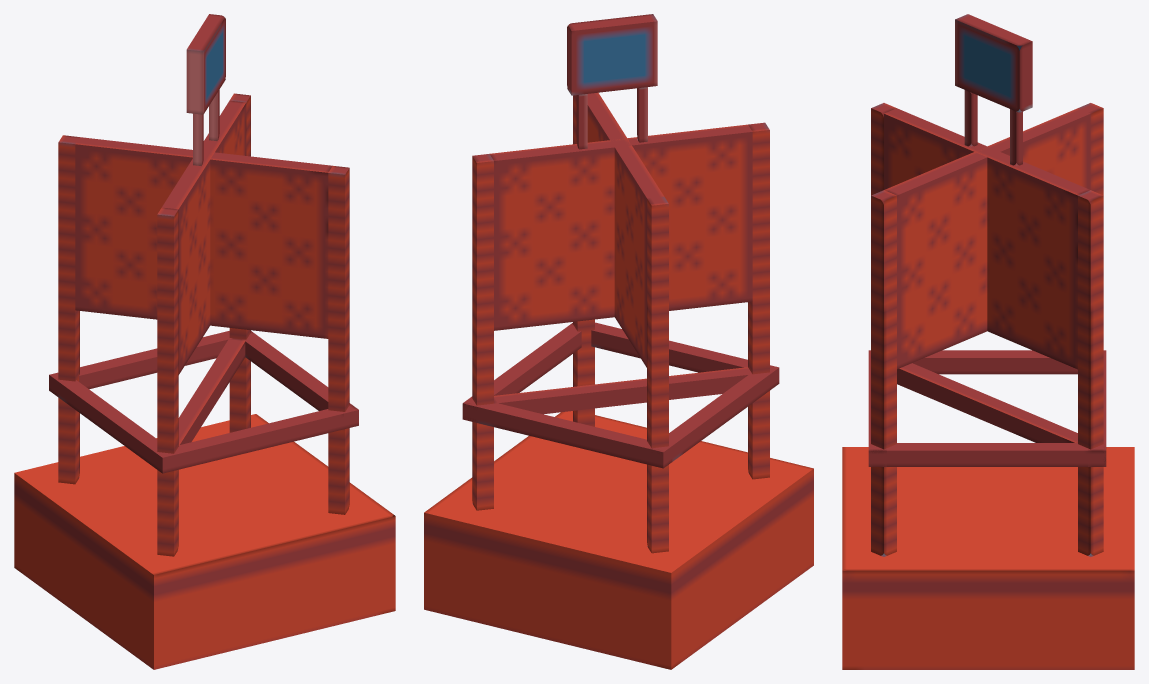
File: buoy.obj
3 views of the same model, side by side, from view 1: azimuth 30°, elevation 25°; view 2: azimuth 150°, elevation 25°; view 3: azimuth 270°, elevation 25° (orthographic). The views are drawn at different scales.
Parts seen in each view (by area): view 1: cube; view 2: cube; view 3: cube.
Boxes of the visible parts, left/top/right/bottom form: cube: left=14, top=14, right=395, bottom=669; cube: left=424, top=14, right=813, bottom=669; cube: left=842, top=14, right=1134, bottom=669.
Size of the model in its own units: 2 by 4.38 by 2.
1 material, 1 textured.
